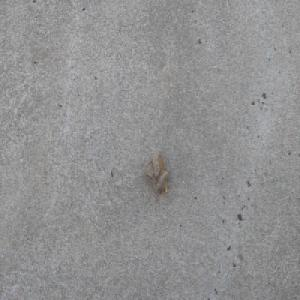Rock: (141, 147, 169, 195)
